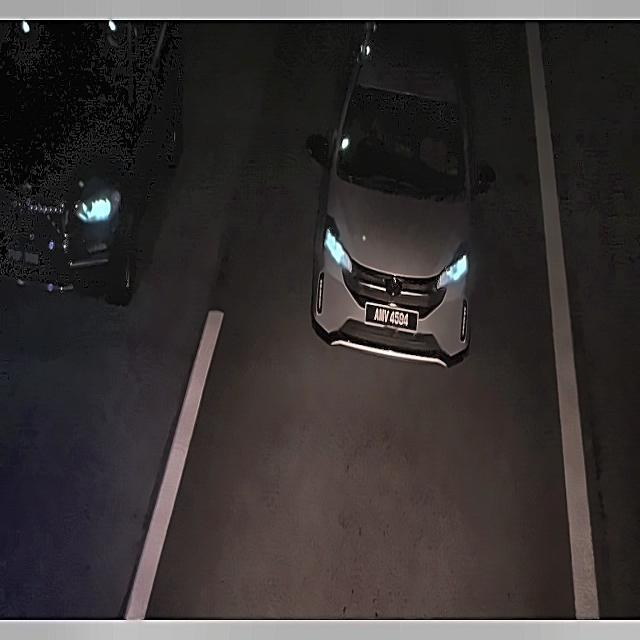car: (361, 298, 424, 340), (4, 239, 46, 272)
